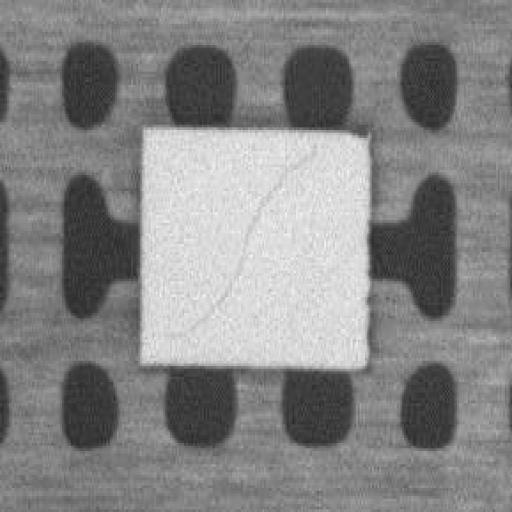DIE_CRACK: (163, 143, 317, 337)
